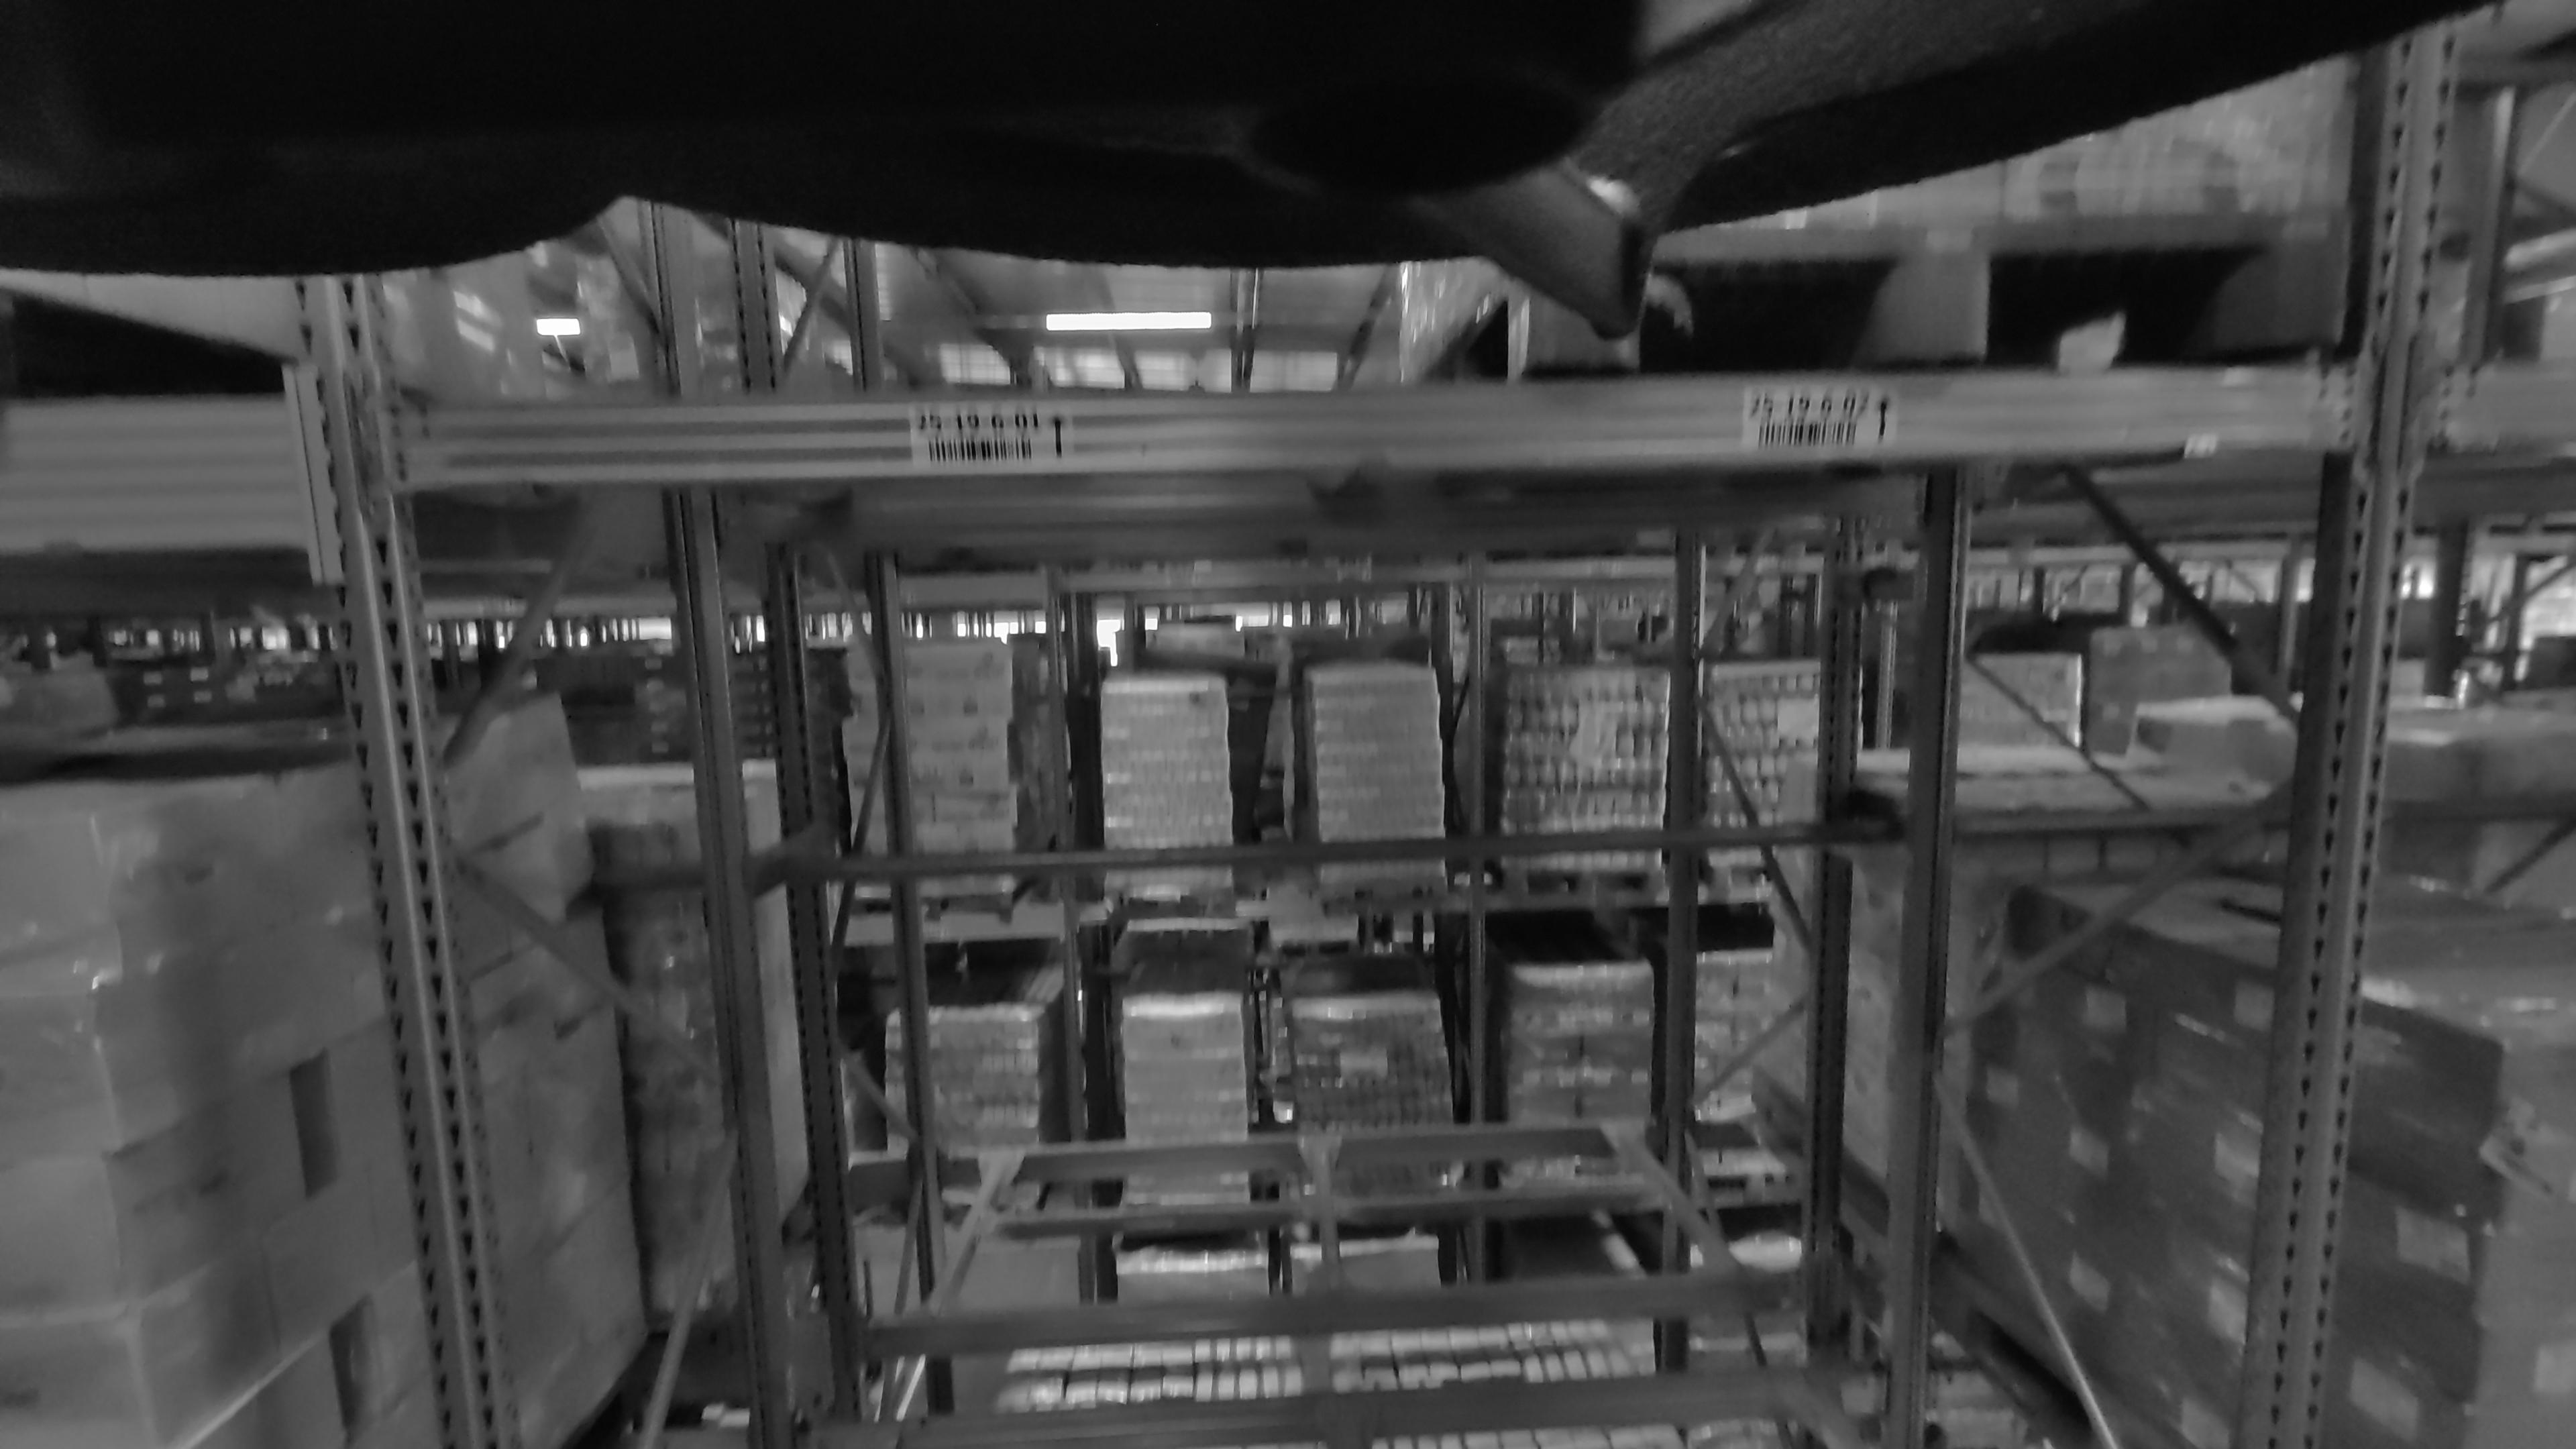empty-shelf: (763, 481, 1333, 1449), (1409, 468, 1885, 1449), (1320, 563, 1744, 1286), (906, 566, 1301, 1283), (496, 250, 1404, 398)
